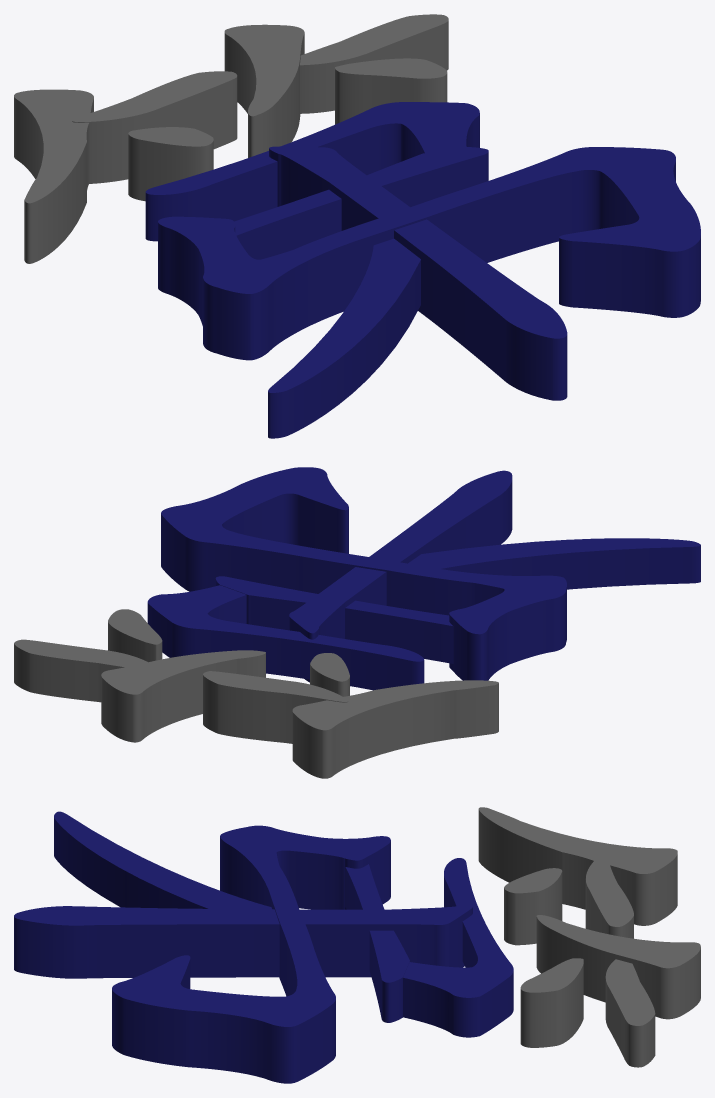
File: hanzi205.fbx
The picture shows the model from 3 angles, top to bottom: view 1: azimuth 30°, elevation 25°; view 2: azimuth 150°, elevation 25°; view 3: azimuth 270°, elevation 25°; orthographic projection. The views are drawn at different scales.
Visible parts, largest first — view 1: Curve.008, Curve.009, Curve.006, Curve.010, Curve, Curve.007, Curve.001, Curve.003, Curve.004, Curve.005, Curve.002; view 2: Curve.008, Curve, Curve.006, Curve.010, Curve.009, Curve.003, Curve.007, Curve.001, Curve.004, Curve.005, Curve.002; view 3: Curve.008, Curve.009, Curve, Curve.006, Curve.003, Curve.010, Curve.005, Curve.007, Curve.004, Curve.002, Curve.001.
Part boxes in pixels (<box>): Curve.008: <box>158,147,700,360</box>; Curve.009: <box>269,146,567,400</box>; Curve.006: <box>145,102,479,241</box>; Curve.010: <box>268,238,420,438</box>; Curve: <box>14,89,93,263</box>; Curve.007: <box>234,147,488,259</box>; Curve.001: <box>72,71,237,183</box>; Curve.003: <box>224,24,304,157</box>; Curve.004: <box>300,14,448,113</box>; Curve.005: <box>335,58,447,124</box>; Curve.002: <box>128,127,213,201</box>; Curve.008: <box>161,467,566,680</box>; Curve: <box>292,680,498,778</box>; Curve.006: <box>147,585,424,690</box>; Curve.010: <box>408,538,700,589</box>; Curve.009: <box>289,470,512,682</box>; Curve.003: <box>101,650,265,742</box>; Curve.007: <box>215,576,453,663</box>; Curve.001: <box>203,671,347,743</box>; Curve.004: <box>14,639,147,702</box>; Curve.005: <box>108,609,162,662</box>; Curve.002: <box>310,653,349,696</box>; Curve.008: <box>112,825,390,1083</box>; Curve.009: <box>14,905,472,978</box>; Curve: <box>478,807,677,925</box>; Curve.006: <box>403,858,513,1037</box>; Curve.003: <box>536,915,700,1019</box>; Curve.010: <box>54,811,271,909</box>; Curve.005: <box>520,958,583,1047</box>; Curve.007: <box>345,864,409,1022</box>; Curve.004: <box>605,959,655,1067</box>; Curve.002: <box>504,868,562,945</box>; Curve.001: <box>585,855,633,938</box>.
Size of the model in its own units: 19.83 by 25.67 by 2.34.
